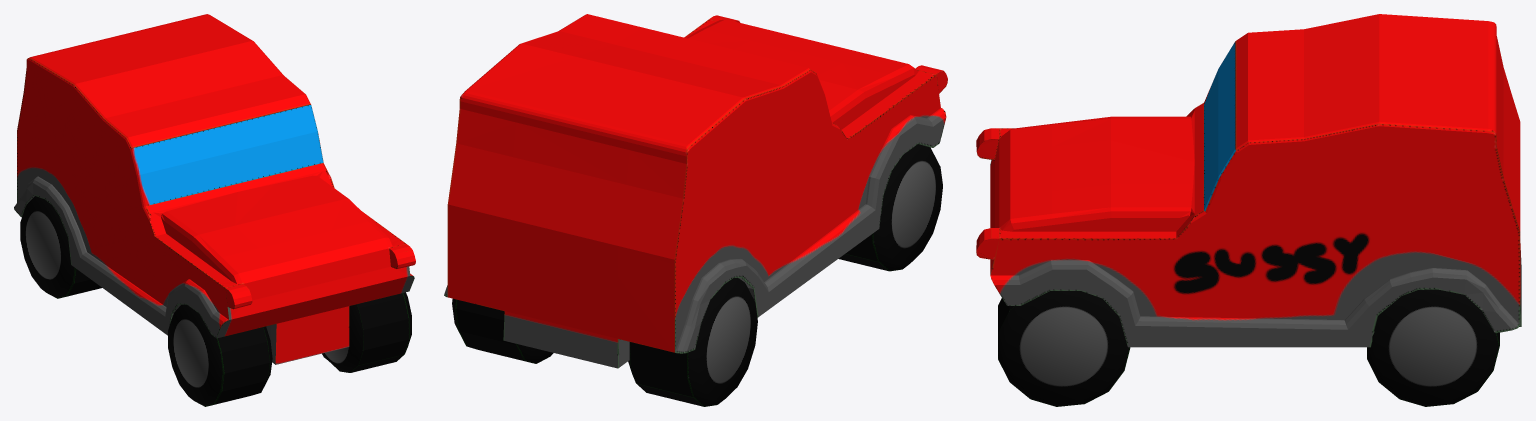
The model's file is Jeep.glb.
3 renders of one model, left to right at view 1: azimuth 30°, elevation 25°; view 2: azimuth 150°, elevation 25°; view 3: azimuth 270°, elevation 25°, orthographic. The views are drawn at different scales.
Visible parts, largest first — view 1: Jeep_01 - Default_0, Wheel001_01 - Default_0, Wheel004_01 - Default_0, Wheel002_01 - Default_0; view 2: Jeep_01 - Default_0, Wheel002_01 - Default_0, Wheel001_01 - Default_0, Wheel003_01 - Default_0; view 3: Jeep_01 - Default_0, Wheel004_01 - Default_0, Wheel003_01 - Default_0.
Boxes of the visible parts, bbox=[...] form: Jeep_01 - Default_0: bbox=[14, 14, 415, 364]; Wheel001_01 - Default_0: bbox=[168, 304, 272, 406]; Wheel004_01 - Default_0: bbox=[322, 292, 411, 372]; Wheel002_01 - Default_0: bbox=[20, 196, 101, 298]; Jeep_01 - Default_0: bbox=[444, 14, 947, 368]; Wheel002_01 - Default_0: bbox=[628, 278, 757, 406]; Wheel001_01 - Default_0: bbox=[838, 144, 942, 271]; Wheel003_01 - Default_0: bbox=[452, 298, 553, 363]; Jeep_01 - Default_0: bbox=[976, 14, 1521, 347]; Wheel004_01 - Default_0: bbox=[998, 291, 1130, 406]; Wheel003_01 - Default_0: bbox=[1367, 289, 1499, 406].
Bounding box in the file's own units: 1.08 × 1.18 × 2.07.
1 material, 1 textured.
